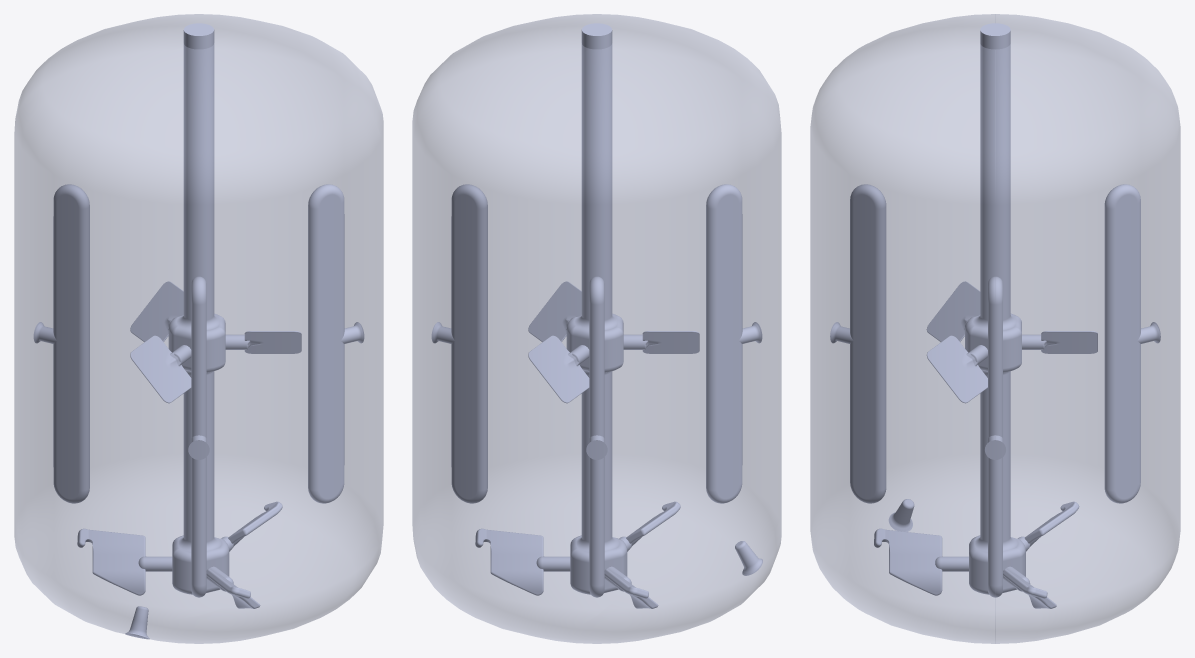
3 views of the same model, side by side, from view 1: azimuth 30°, elevation 25°; view 2: azimuth 150°, elevation 25°; view 3: azimuth 270°, elevation 25° (orthographic).
Visible parts, largest first — view 1: R-901_Tank, R-901_Impeller, R-901_Baffles.sldasm-Part-002, R-901_Baffles.sldasm-Part-1, R-901_Baffles.sldasm-Part-001; view 2: R-901_Tank, R-901_Impeller, R-901_Baffles.sldasm-Part-1, R-901_Baffles.sldasm-Part-001, R-901_Baffles.sldasm-Part-002, R-901_ThemalSensor; view 3: R-901_Tank, R-901_Impeller, R-901_Baffles.sldasm-Part-001, R-901_Baffles.sldasm-Part-002, R-901_Baffles.sldasm-Part-1, R-901_ThemalSensor.
Boxes of the visible parts, x1,y1,x2,y2 form: R-901_Tank: [14, 14, 383, 643]; R-901_Impeller: [77, 23, 301, 608]; R-901_Baffles.sldasm-Part-002: [33, 184, 89, 503]; R-901_Baffles.sldasm-Part-1: [308, 184, 364, 503]; R-901_Baffles.sldasm-Part-001: [188, 276, 209, 597]; R-901_Tank: [412, 14, 781, 643]; R-901_Impeller: [475, 23, 699, 608]; R-901_Baffles.sldasm-Part-1: [431, 184, 487, 503]; R-901_Baffles.sldasm-Part-001: [706, 184, 762, 503]; R-901_Baffles.sldasm-Part-002: [586, 276, 607, 597]; R-901_ThemalSensor: [735, 541, 762, 575]; R-901_Tank: [810, 14, 1180, 643]; R-901_Impeller: [874, 23, 1097, 608]; R-901_Baffles.sldasm-Part-001: [830, 184, 886, 503]; R-901_Baffles.sldasm-Part-002: [1104, 184, 1160, 503]; R-901_Baffles.sldasm-Part-1: [985, 276, 1005, 597]; R-901_ThemalSensor: [888, 499, 914, 531].
Size of the model in its own units: 1.22 by 2.13 by 1.22.
